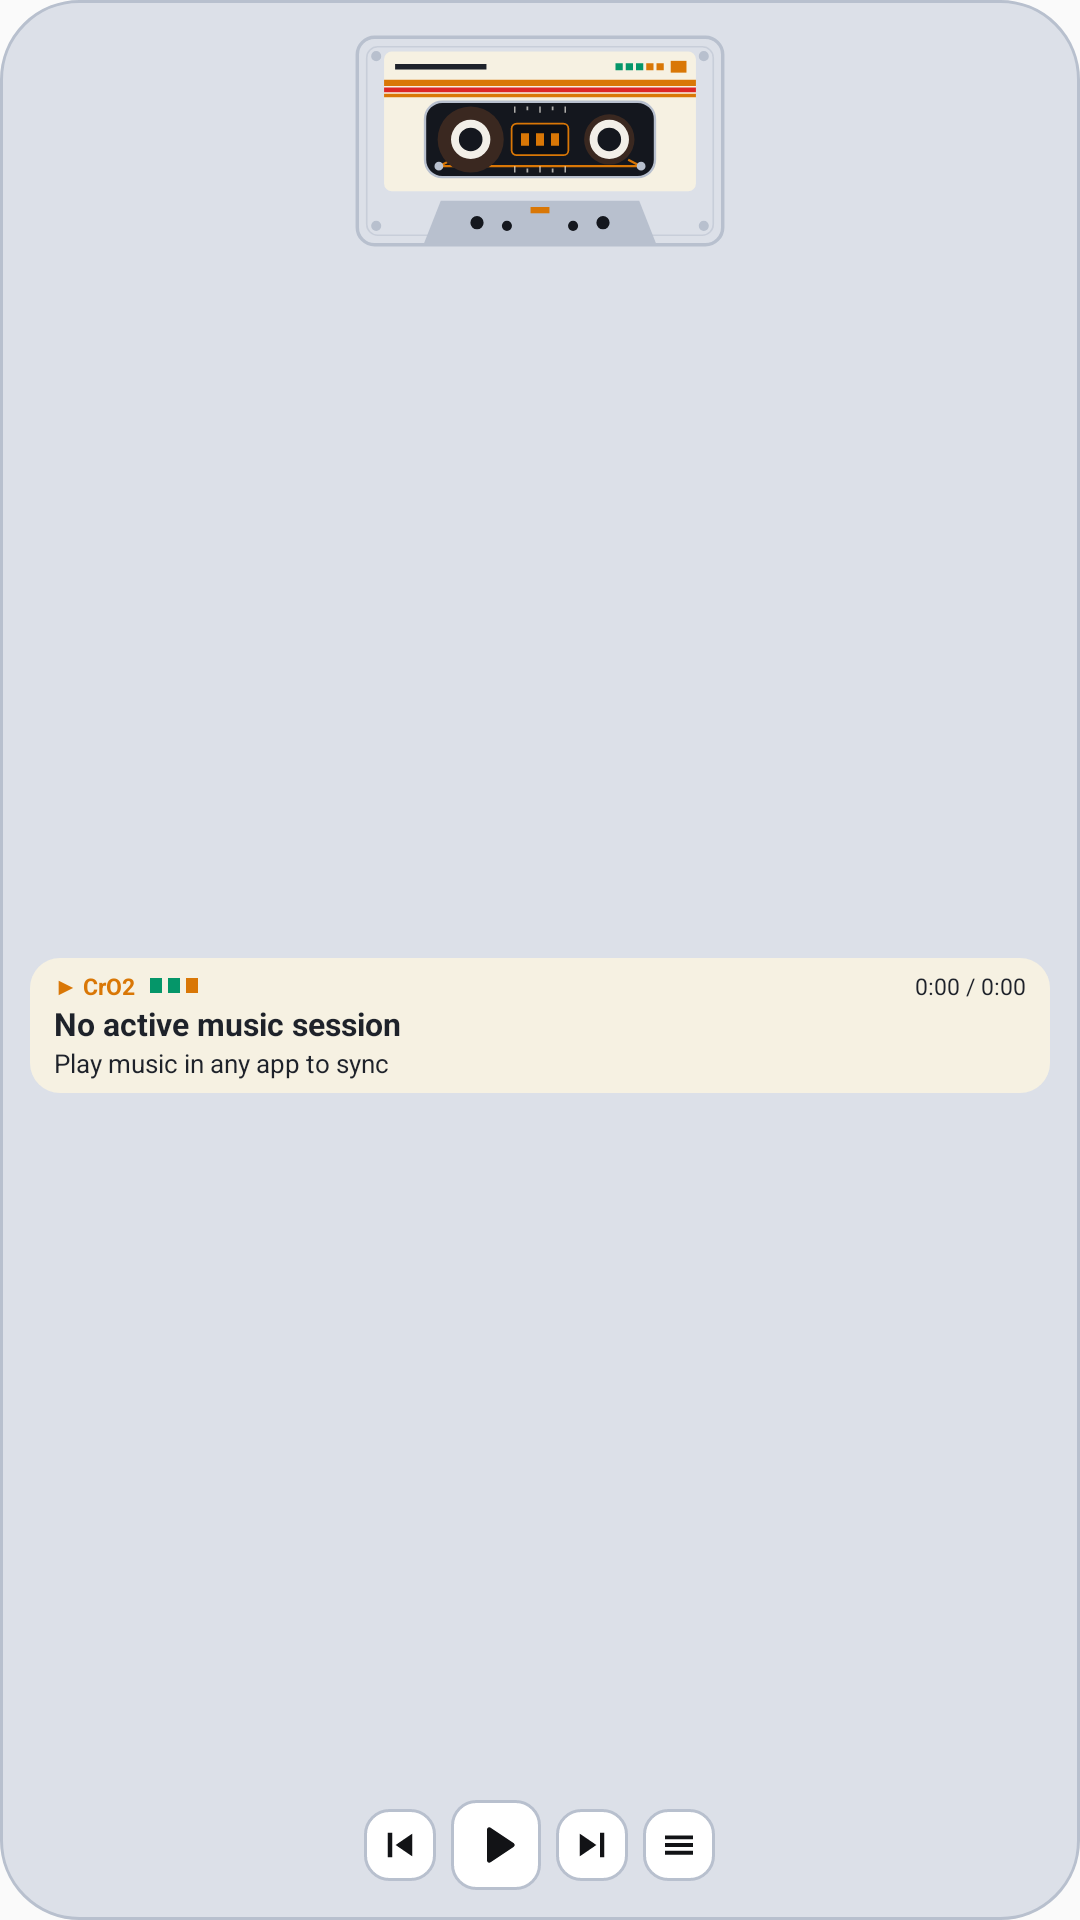

Screen size 1080*1920. Icon name, then its center in pixels as point (x, y):
menu: point (679, 1845)
next: point (592, 1845)
play: point (496, 1845)
prev: point (400, 1845)
